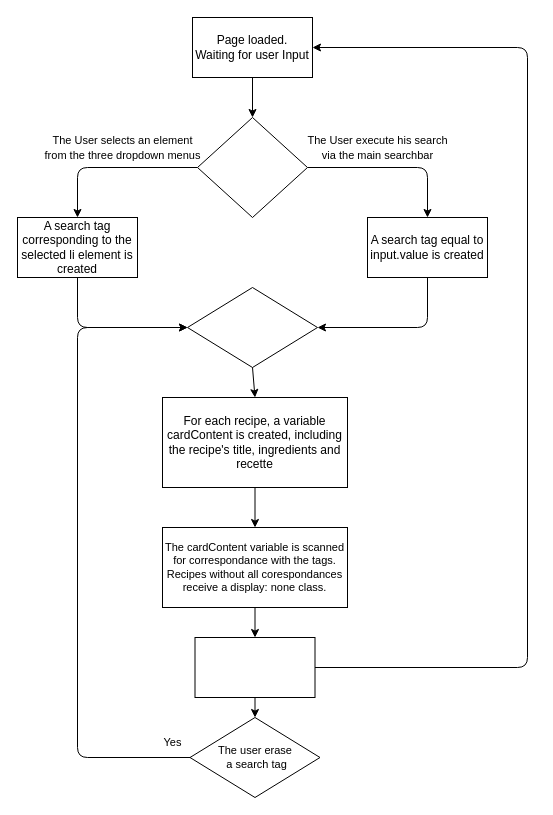
This 553x815 diagram has some shape labels left out. Each missing label, with the centre of its shape:
"Display recipes" belongs at point (254, 667).
"The list of tags is updated" belongs at point (252, 327).
"The user start interacting with the site" belongs at point (252, 167).
